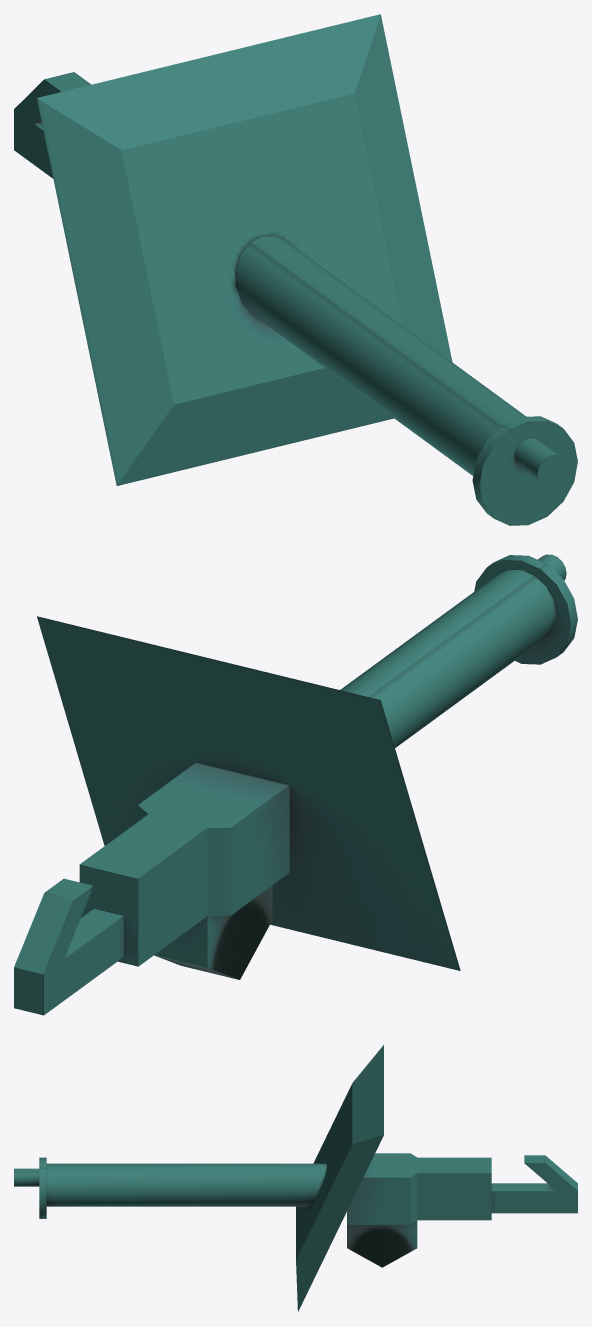
Rendered from gun.obj.
3 renders of one model, top to bottom at view 1: azimuth 30°, elevation 25°; view 2: azimuth 150°, elevation 25°; view 3: azimuth 270°, elevation 25°, orthographic. The views are drawn at different scales.
Parts seen in each view (by area): view 1: gun_Mesh; view 2: gun_Mesh; view 3: gun_Mesh.
Boxes of the visible parts, bbox=[...] form: gun_Mesh: bbox=[14, 14, 577, 525]; gun_Mesh: bbox=[14, 554, 577, 1015]; gun_Mesh: bbox=[14, 1045, 577, 1311].
Bounding box in the file's own units: 0.967 × 0.8852 × 2.55.
1 material, 1 textured.
